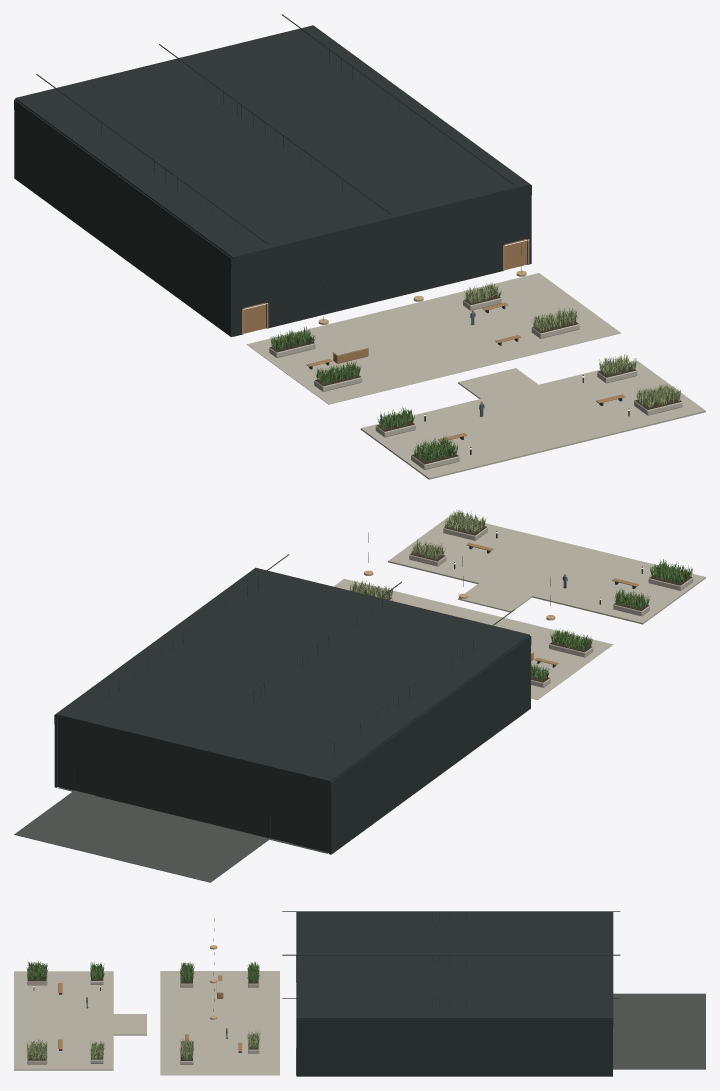
The model's file is performance-additions.glb.
3 renders of one model, top to bottom at view 1: azimuth 30°, elevation 25°; view 2: azimuth 150°, elevation 25°; view 3: azimuth 270°, elevation 25°, orthographic. The views are drawn at different scales.
Visible parts, largest first — view 1: GPH auditorium enclosure ceiling, GPH foyer floor, GPH foyer acoustic divider.001, GPH garden terrace, GPH acoustic side enclosure, GPH upper foyer closure, GPH upper side closure, GPH garden entrance approach, GPH audience entry head, GPH audience entry head.001, GPH terrace garden foliage, GPH terrace garden foliage.001; view 2: GPH auditorium enclosure ceiling, GPH garden terrace, GPH acoustic side enclosure, GPH stage rear enclosure.001, GPH backstage floor, GPH foyer floor, GPH stage rear enclosure, GPH upper side closure, GPH garden entrance approach, GPH stage rear enclosure.002, GPH backstage entry head, GPH backstage entry head.001 (+2 smaller); view 3: GPH auditorium enclosure ceiling, GPH acoustic side enclosure.001, GPH foyer floor, GPH garden terrace, GPH backstage floor, GPH upper side closure.001, GPH garden entrance approach, GPH ceiling carrier.001, GPH terrace garden foliage.001, GPH terrace garden foliage, GPH ceiling carrier, GPH ceiling carrier.002.
Part boxes in pixels (bbox=[...]): GPH auditorium enclosure ceiling: bbox=[15, 25, 530, 258]; GPH foyer floor: bbox=[246, 273, 620, 404]; GPH foyer acoustic divider.001: bbox=[266, 202, 504, 328]; GPH garden terrace: bbox=[360, 360, 705, 479]; GPH acoustic side enclosure: bbox=[14, 110, 233, 336]; GPH upper foyer closure: bbox=[233, 186, 530, 267]; GPH upper side closure: bbox=[14, 99, 233, 268]; GPH garden entrance approach: bbox=[458, 368, 538, 398]; GPH audience entry head: bbox=[243, 260, 266, 307]; GPH audience entry head.001: bbox=[504, 196, 527, 244]; GPH terrace garden foliage: bbox=[413, 436, 458, 462]; GPH terrace garden foliage.001: bbox=[636, 383, 680, 407]; GPH auditorium enclosure ceiling: bbox=[55, 567, 529, 782]; GPH garden terrace: bbox=[388, 515, 705, 624]; GPH acoustic side enclosure: bbox=[329, 645, 530, 854]; GPH stage rear enclosure.001: bbox=[95, 725, 270, 838]; GPH backstage floor: bbox=[14, 791, 269, 882]; GPH foyer floor: bbox=[333, 578, 613, 699]; GPH stage rear enclosure: bbox=[292, 773, 328, 852]; GPH upper side closure: bbox=[329, 636, 531, 791]; GPH garden entrance approach: bbox=[458, 583, 532, 612]; GPH stage rear enclosure.002: bbox=[58, 716, 74, 790]; GPH backstage entry head: bbox=[270, 768, 292, 819]; GPH backstage entry head.001: bbox=[74, 720, 95, 771]; GPH auditorium enclosure ceiling: bbox=[296, 912, 613, 1018]; GPH acoustic side enclosure.001: bbox=[296, 1026, 612, 1076]; GPH foyer floor: bbox=[160, 971, 279, 1075]; GPH garden terrace: bbox=[14, 971, 113, 1070]; GPH backstage floor: bbox=[613, 993, 705, 1069]; GPH upper side closure.001: bbox=[296, 1019, 613, 1026]; GPH garden entrance approach: bbox=[113, 1014, 146, 1035]; GPH ceiling carrier.001: bbox=[282, 954, 620, 955]; GPH terrace garden foliage.001: bbox=[26, 1039, 48, 1059]; GPH terrace garden foliage: bbox=[26, 961, 48, 979]; GPH ceiling carrier: bbox=[282, 911, 620, 911]; GPH ceiling carrier.002: bbox=[282, 998, 620, 998].
Size of the model in its own units: 38 by 11.52 by 104.
